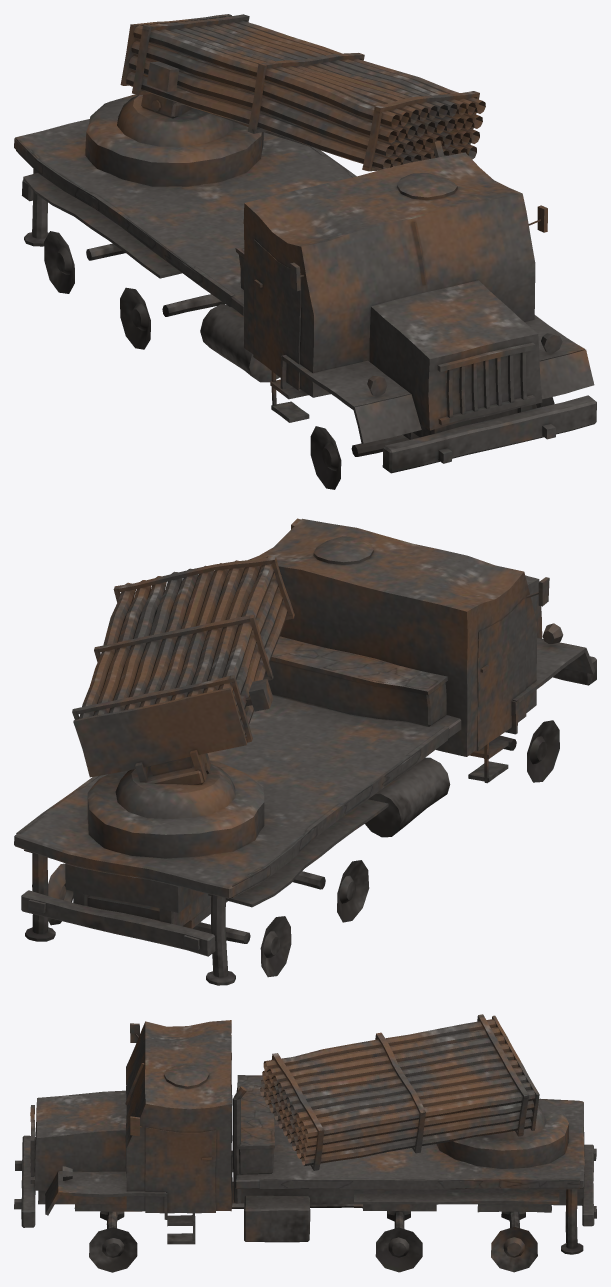
Rendered from Wreck_Rocket.fbx.
3 renders of one model, top to bottom at view 1: azimuth 30°, elevation 25°; view 2: azimuth 150°, elevation 25°; view 3: azimuth 270°, elevation 25°, orthographic. The views are drawn at different scales.
Parts seen in each view (by area): view 1: Wreck_Rocket_Mesh; view 2: Wreck_Rocket_Mesh; view 3: Wreck_Rocket_Mesh.
Part boxes in pixels (box(x1,y1,x2,y2)): Wreck_Rocket_Mesh: box(14, 14, 596, 489); Wreck_Rocket_Mesh: box(14, 518, 596, 985); Wreck_Rocket_Mesh: box(14, 1014, 596, 1272).
Size of the model in its own units: 3.28 by 2.72 by 7.11.
